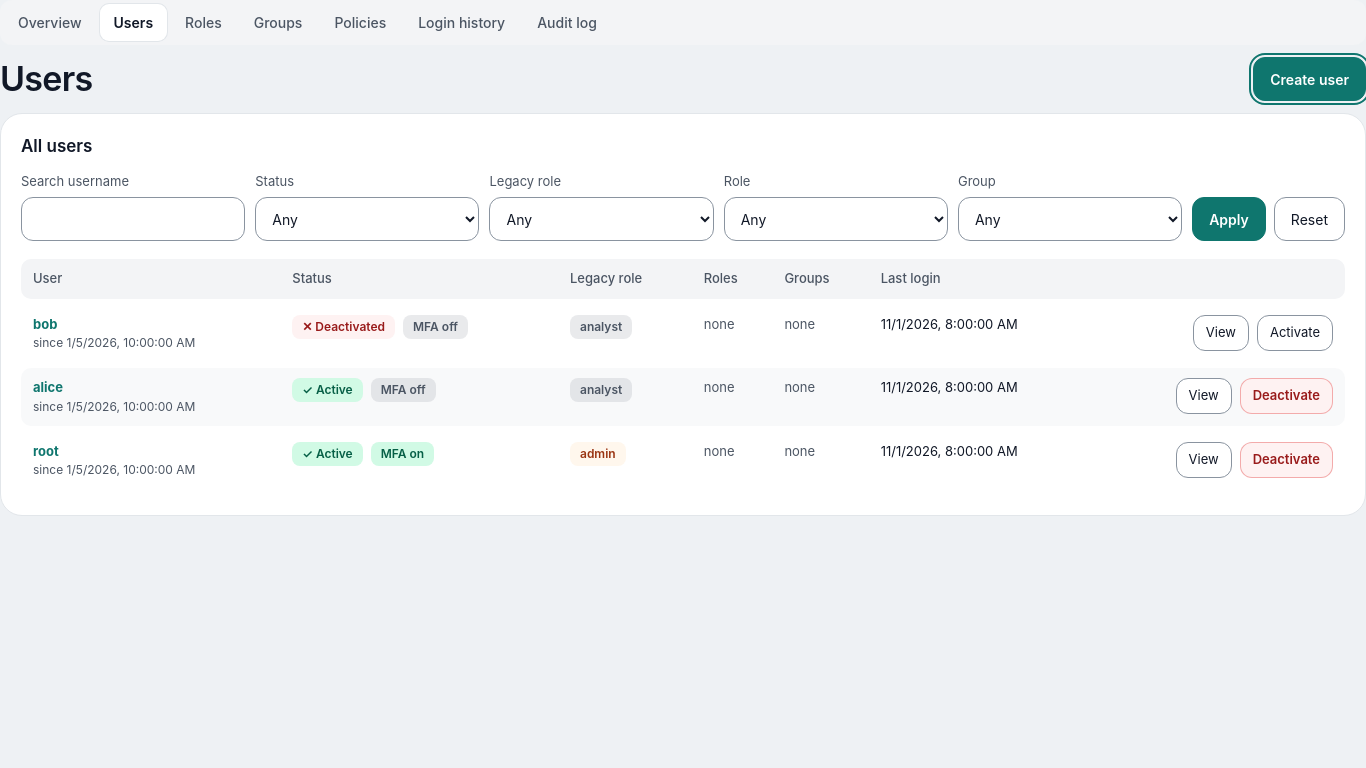
Test: IAM create user › moves focus into the dialog and closes on Escape, returning focus
The image size is (1366, 768).
Click the button "Create user": click(1310, 79) [1253,57,1365,101]
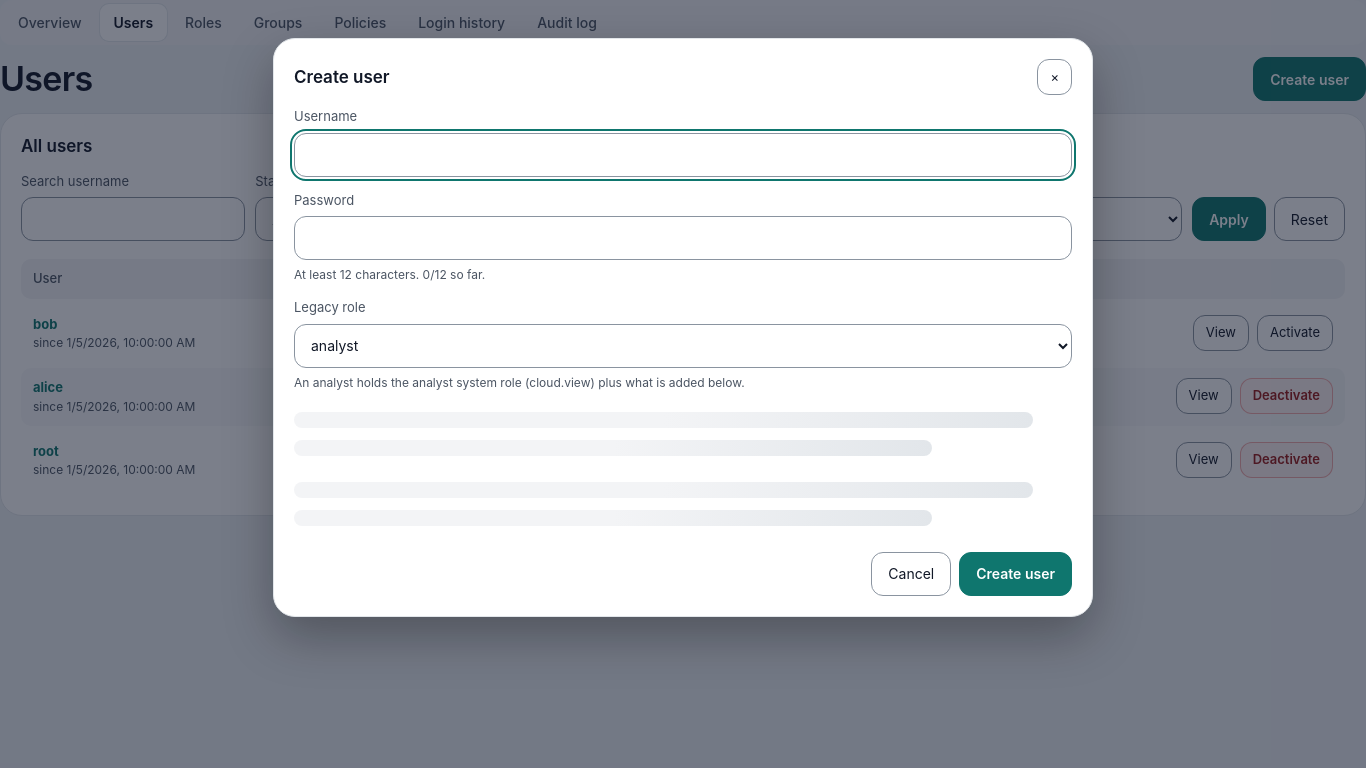
Press Escape in the dialog "Create user", box [273,38,1093,617]
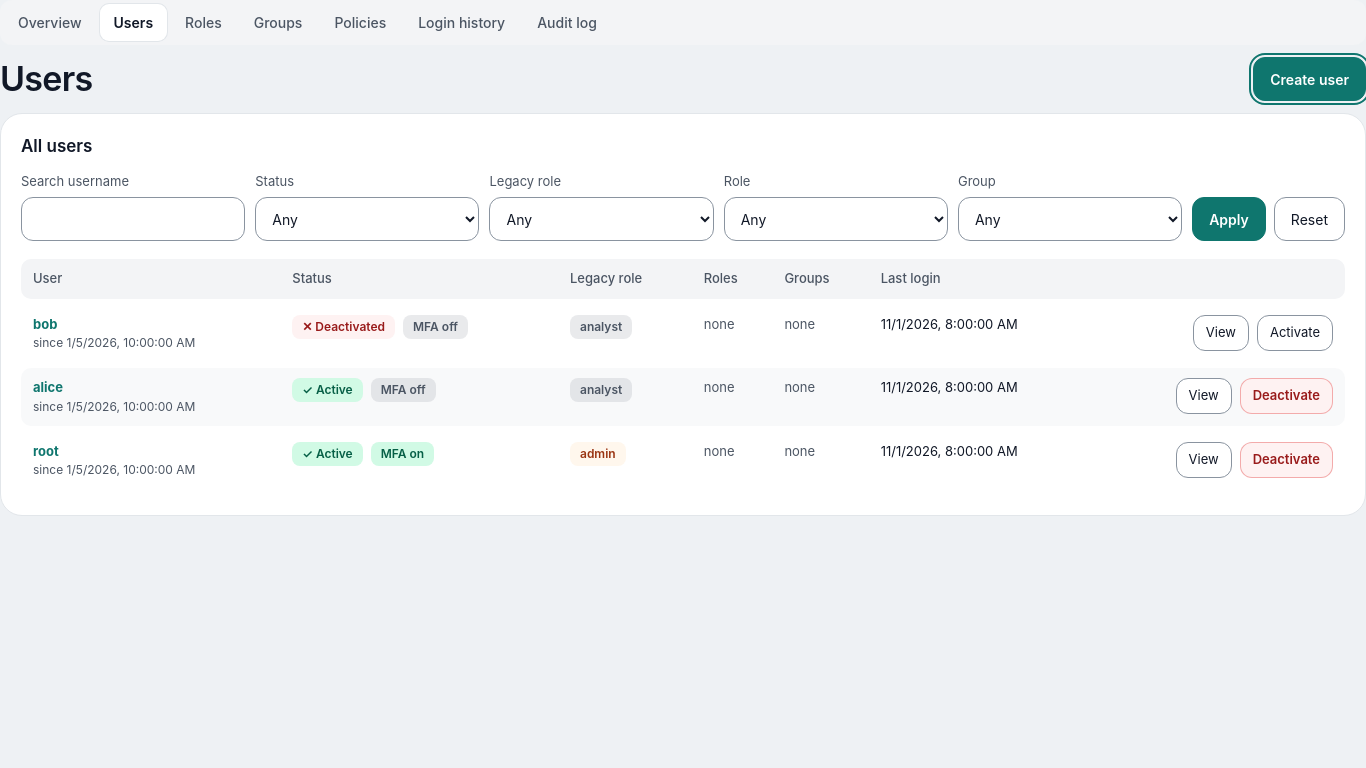
Expected: the dialog is gone
